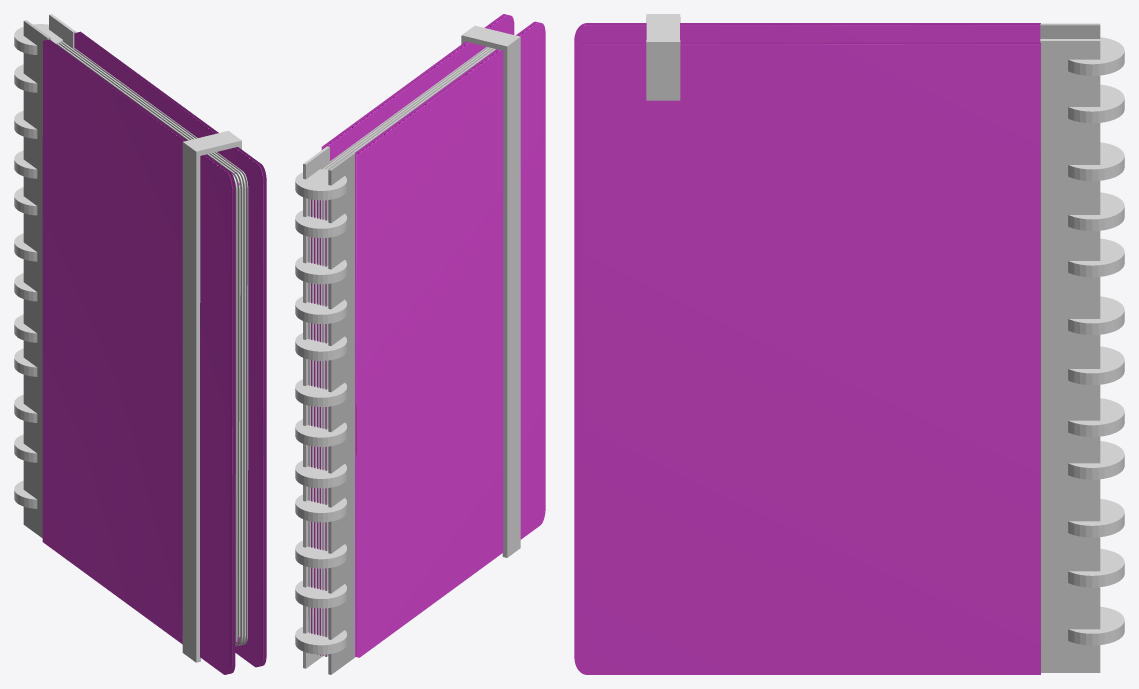
File: CADERNO.glb
The picture shows the model from 3 angles, left to right: view 1: azimuth 30°, elevation 25°; view 2: azimuth 150°, elevation 25°; view 3: azimuth 270°, elevation 25°; orthographic projection. The views are drawn at different scales.
Parts seen in each view (by area): view 1: Cube.001, Cube, Cube.016, Cube.013, Cube.005, Cube.006, Cube.004, Cube.003, Cube.007, Cube.015, Cylinder.011, Cube.012 (+11 smaller); view 2: Cube.001, Cube.013, Cube.016, Cube, Cube.012, Cube.005, Cube.004, Cylinder.011, Cube.006, Cube.010, Cube.009, Cube.008 (+14 smaller); view 3: Cube, Cube.012, Cube.001, Cube.014, Cylinder.004, Cylinder.011, Cylinder.001, Cylinder.002, Cylinder.003, Cylinder, Cylinder.010, Cylinder.007 (+6 smaller).
Part boxes in pixels (x1,y1,x2,y2): Cube.001: (42, 39, 235, 674); Cube: (74, 31, 266, 667); Cube.016: (182, 140, 200, 662); Cube.013: (23, 20, 50, 538); Cube.005: (59, 42, 243, 645); Cube.006: (57, 43, 240, 646); Cube.004: (61, 41, 245, 645); Cube.003: (73, 48, 248, 644); Cube.007: (232, 174, 237, 645); Cube.015: (188, 131, 241, 155); Cylinder.011: (14, 24, 62, 54); Cube.012: (49, 14, 75, 48); Cube.001: (355, 21, 545, 657); Cube.013: (328, 152, 355, 674); Cube.016: (502, 35, 520, 557); Cube: (321, 14, 514, 160); Cube.012: (303, 146, 329, 668); Cube.005: (311, 48, 493, 633); Cube.004: (308, 47, 490, 633); Cylinder.011: (295, 169, 346, 200); Cube.006: (314, 48, 496, 634); Cube.010: (325, 200, 328, 656); Cube.009: (322, 200, 325, 656); Cube.008: (319, 200, 322, 655); Cube: (574, 42, 1040, 674); Cube.012: (1040, 39, 1100, 672); Cube.001: (574, 23, 1040, 56); Cube.014: (646, 40, 680, 100); Cylinder.004: (1068, 398, 1124, 436); Cylinder.011: (1068, 37, 1124, 75); Cylinder.001: (1068, 549, 1124, 587); Cylinder.002: (1068, 499, 1124, 537); Cylinder.003: (1068, 441, 1124, 479); Cylinder: (1068, 606, 1124, 645); Cylinder.010: (1068, 84, 1124, 123); Cylinder.007: (1068, 238, 1124, 277).
Bounding box in the file's own units: 3.28 × 34.34 × 26.71.
